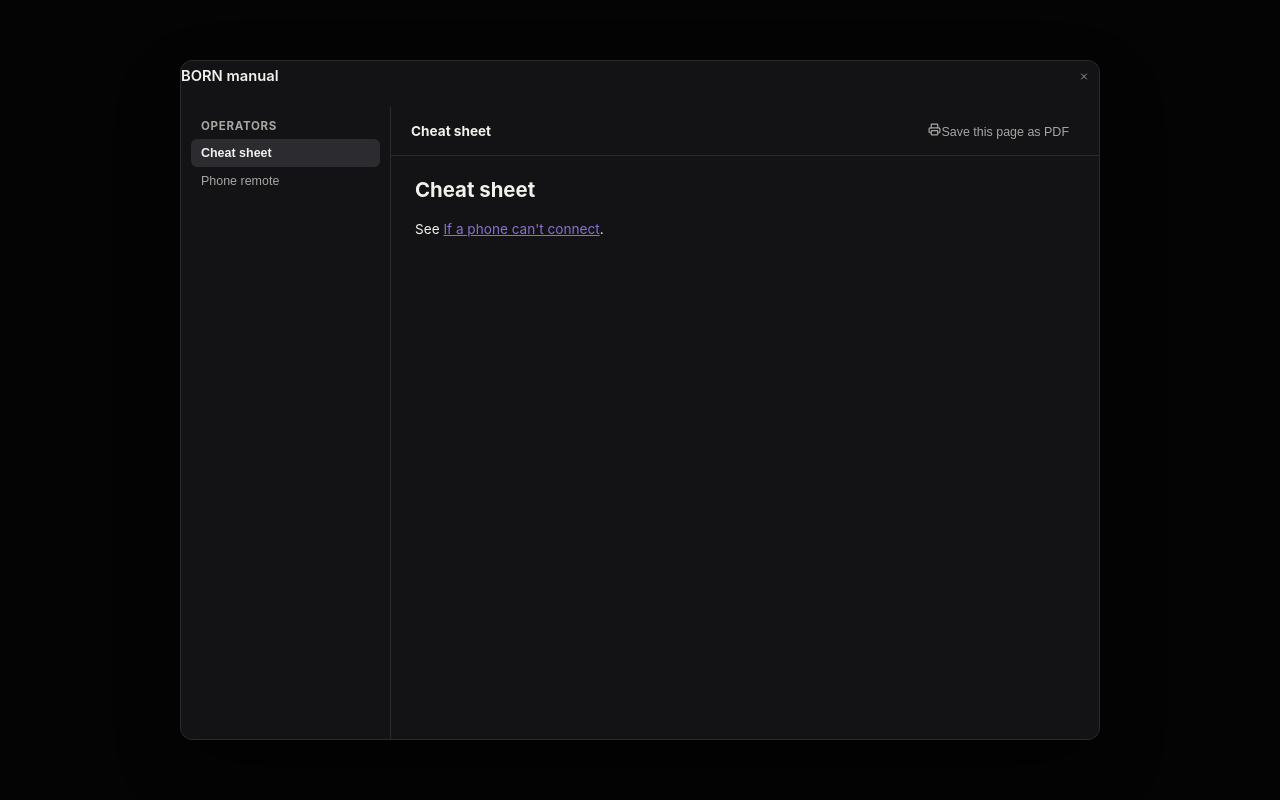
Test: HelpViewer links to a section of another page › opens the other page and scrolls to the section (it used to do nothing)
Step 1. Click the link "If a phone can't connect" → click(522, 229), box top-left (443, 221), bottom-right (600, 237)
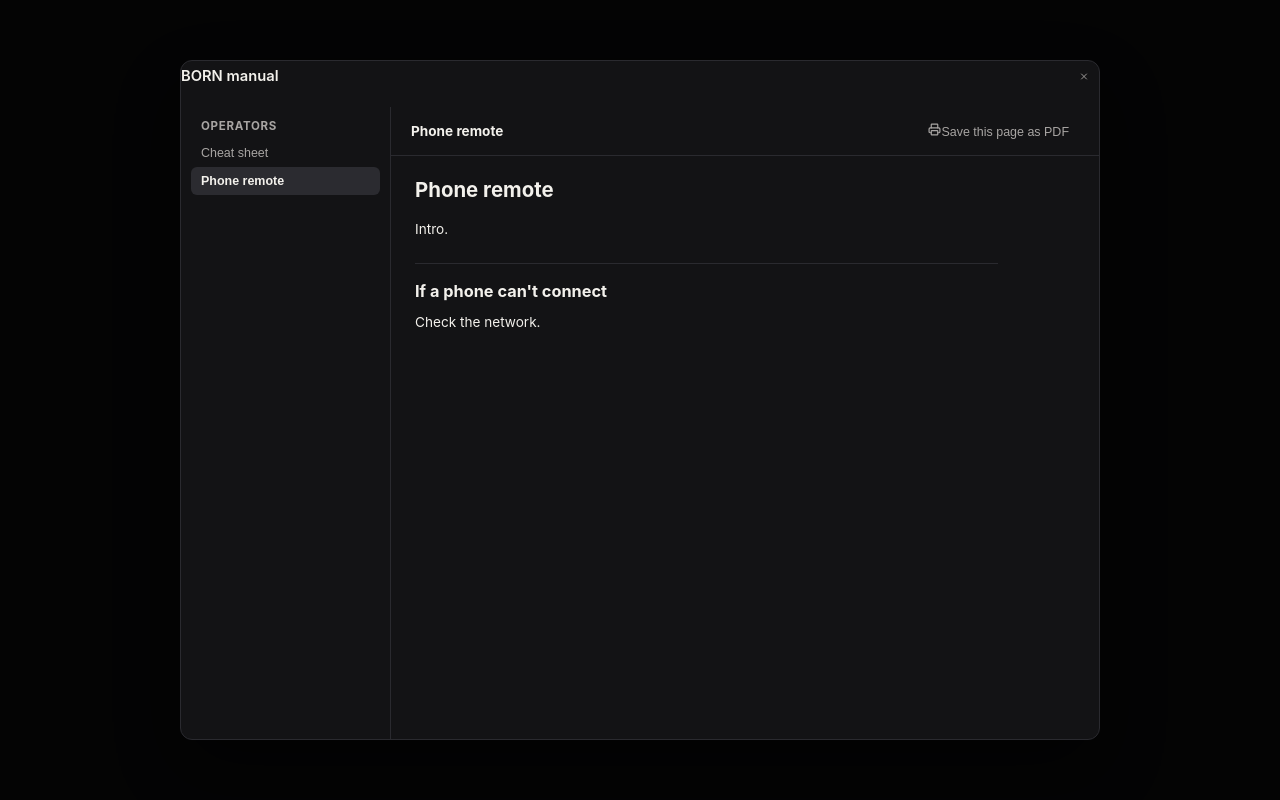
Expected: the text "Check the network." is shown, top-left (415, 314), bottom-right (540, 330)
